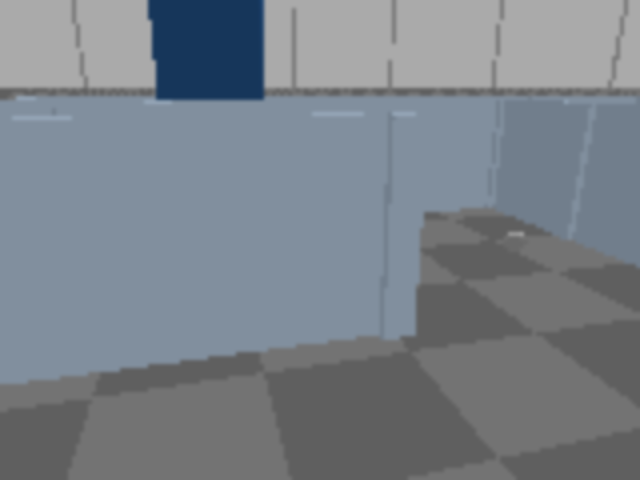puck: (501, 228, 530, 255)
